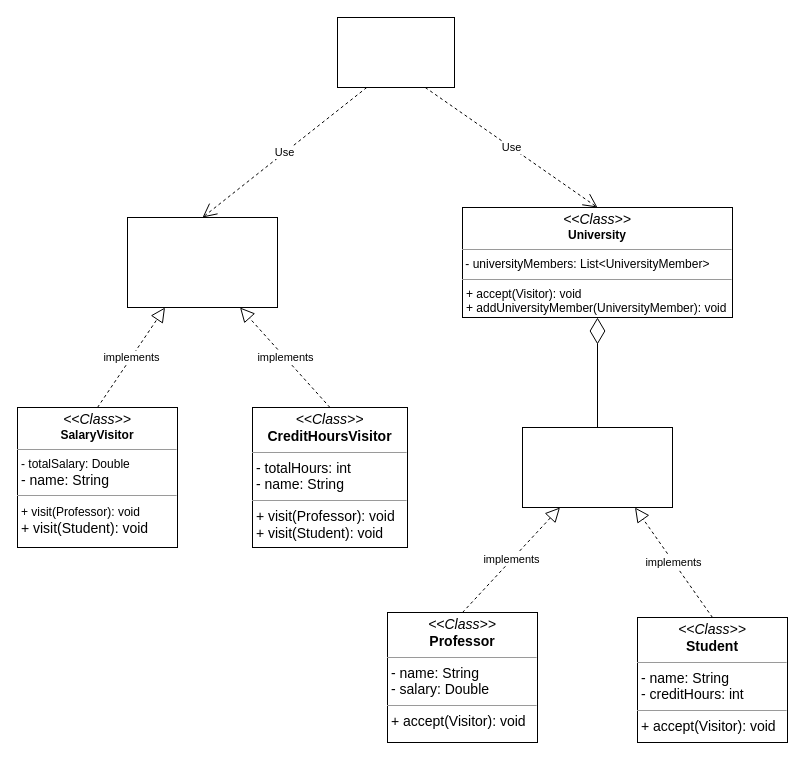
The diagram is 805 pixels wide and 760 high, and some of its shapes have lost their labels. Here are the shapes that lost their labels. From the top down, the box of each, then its label:
(336, 16, 454, 88): <<Class>> Main + main(String[]): void
(126, 216, 278, 308): <<Interface>> Visitor + visit(Professor): void + visit(Student): void
(522, 426, 672, 508): <<Interface>> UniversityMember + accept(Visitor): void
